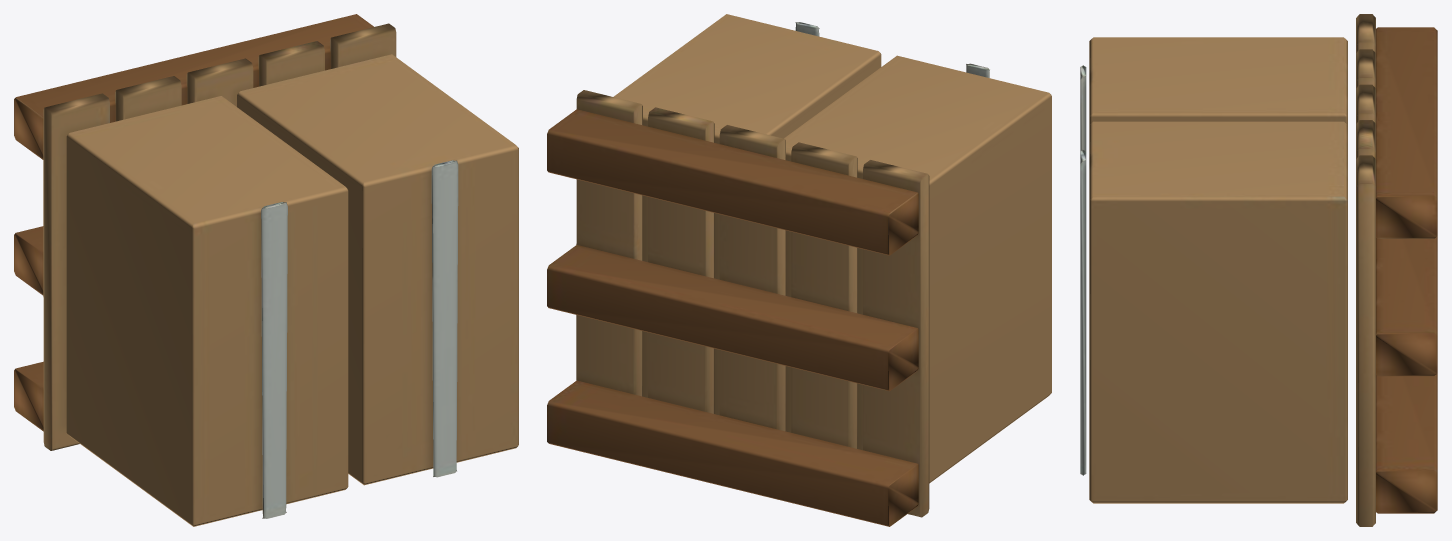
File: pallet.obj
3 renders of one model, left to right at view 1: azimuth 30°, elevation 25°; view 2: azimuth 150°, elevation 25°; view 3: azimuth 270°, elevation 25°, orthographic.
Visible parts, largest first — view 1: pallet; view 2: pallet; view 3: pallet.
Part boxes in pixels (x1=…): pallet: x1=14, y1=14, x2=518, y2=526; pallet: x1=547, y1=14, x2=1051, y2=526; pallet: x1=1080, y1=14, x2=1437, y2=526.
Size of the model in its own units: 1.01 by 0.95 by 0.8975.
Materials: 1 (1 with a texture image).
